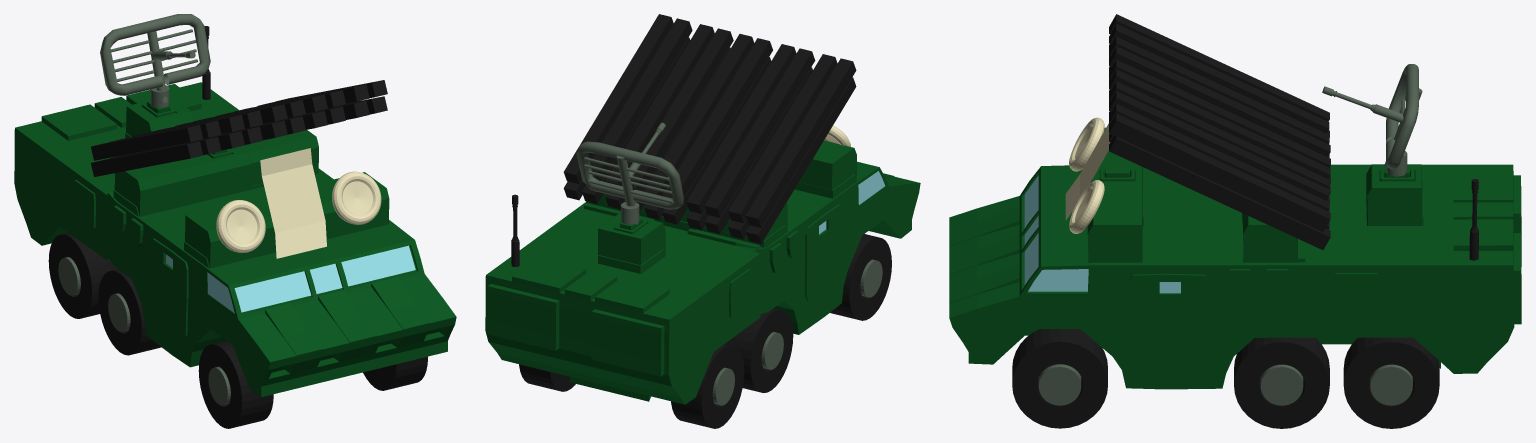
The model's file is mlrs.glb.
3 renders of one model, left to right at view 1: azimuth 30°, elevation 25°; view 2: azimuth 150°, elevation 25°; view 3: azimuth 270°, elevation 25°, orthographic. The views are drawn at different scales.
Visible parts, largest first — view 1: Cube, Cube.002, Plane.005, Cube.009, Plane, Circle.005, Cylinder.069, Circle.003, Circle.004, Torus, Torus.001, Cube.001 (+21 smaller); view 2: Cube, Cube.010, Cube.013, Cube.012, Cube.014, Cube.011, Cube.016, Cube.001, Cube.019, Cube.017, Circle.004, Cube.015 (+17 smaller); view 3: Cube, Circle, Circle.001, Circle.002, Cube.017, Cube.009, Cube.022, Cube.001, Cube.012, Cube.011, Cube.018, Cube.015 (+17 smaller).
Boxes of the visible parts, x1,y1,x2,y2 form: Cube: (14,82,456,396); Cube.002: (113,130,318,216); Plane.005: (260,148,326,258); Cube.009: (184,172,389,268); Plane: (234,245,415,312); Circle.005: (198,340,273,428); Cylinder.069: (100,14,210,95); Circle.003: (48,232,117,318); Circle.004: (98,269,161,355); Torus: (332,171,381,224); Torus.001: (216,200,265,253); Cube.001: (125,95,194,138); Cube: (485,161,920,404); Cube.010: (746,58,856,227); Cube.013: (704,48,815,217); Cube.012: (686,44,796,213); Cube.014: (662,38,772,198); Cube.011: (728,54,837,223); Cube.016: (584,18,692,184); Cube.001: (598,212,665,273); Cube.019: (631,28,733,191); Cube.017: (563,14,673,183); Circle.004: (725,308,793,392); Cube.015: (644,34,754,195); Cube: (949,164,1521,389); Circle: (1012,329,1107,428); Circle.001: (1234,337,1329,428); Circle.002: (1343,337,1439,428); Cube.017: (1109,113,1330,231); Cube.009: (1087,127,1143,262); Cube.022: (1109,136,1330,249); Cube.001: (1366,164,1423,225); Cube.012: (1109,46,1330,156); Cube.011: (1109,24,1329,133); Cube.018: (1109,91,1329,200); Cube.015: (1109,69,1330,178).
Size of the model in its own units: 1.24 by 1.69 by 2.82.
